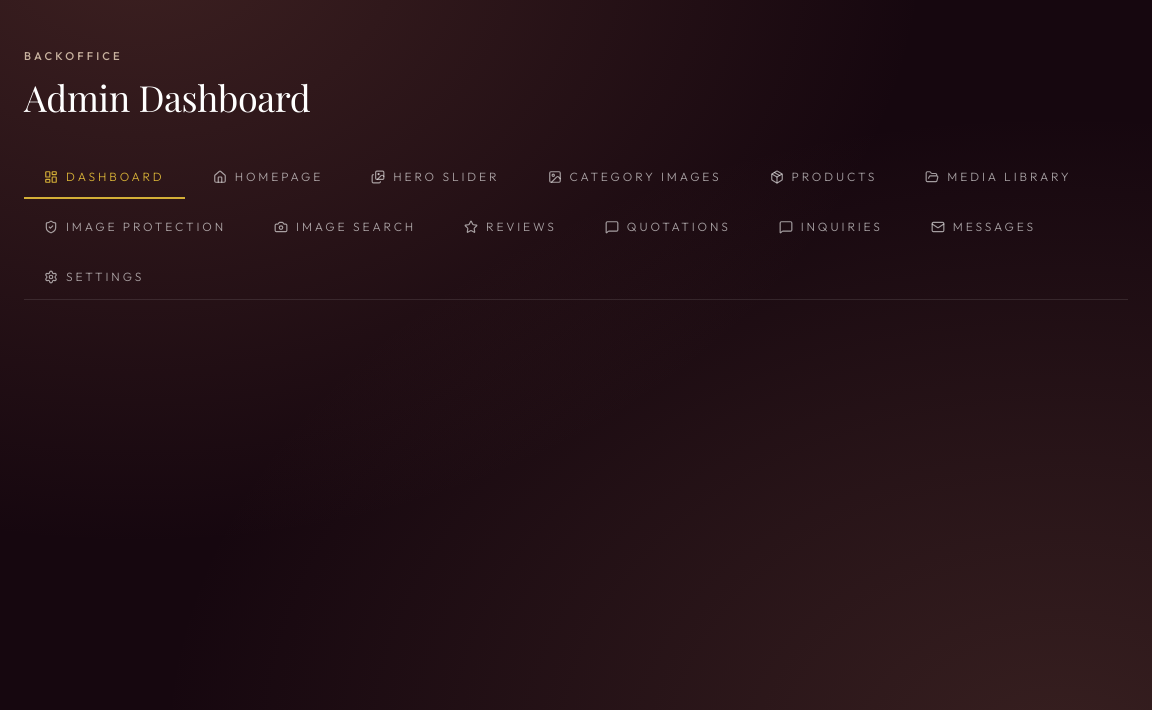
Test: Admin Enquiries — deletion controls › individual trash icon opens confirm modal showing count=1
What coordinates should you click on to do the following:
click the button with test id "admin-tab-inquiries"
I would click on:
 (831, 228)
Its box is [759, 207, 903, 249].
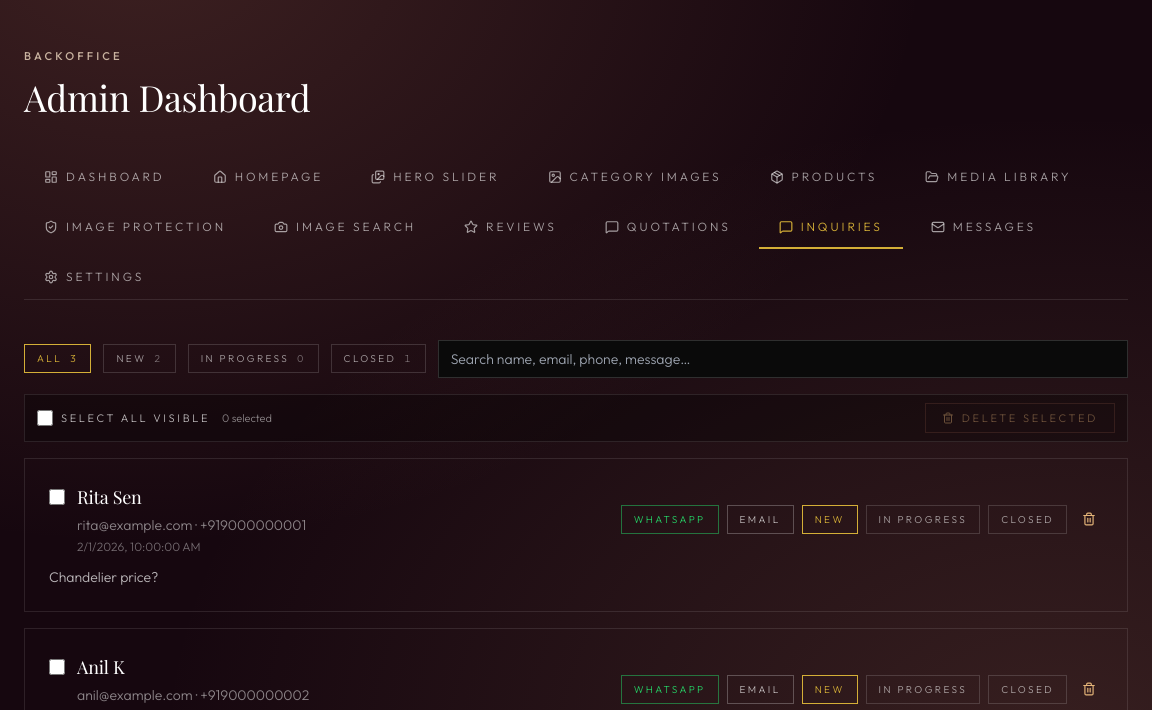
Expected: the element with test id "inq-inq-1" is shown, [24, 458, 1128, 612]
What coordinates should you click on to do the following:
click the button with test id "inq-delete-inq-2"
I would click on:
 (1089, 689)
Its box is [1075, 675, 1103, 703].
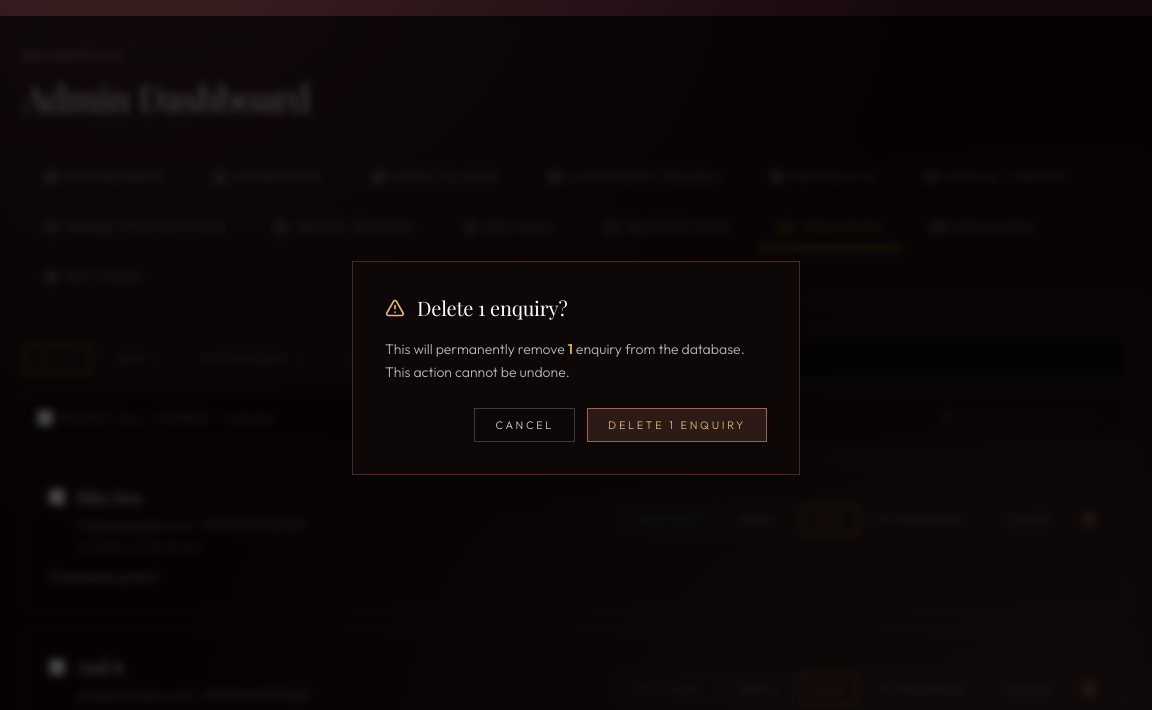
Expected: the text with test id "inq-delete-modal-count" reads "1", [568, 340, 573, 358]
Expected: the dialog with test id "inq-delete-modal" shows "Delete 1 enquiry", [587, 408, 767, 442]
